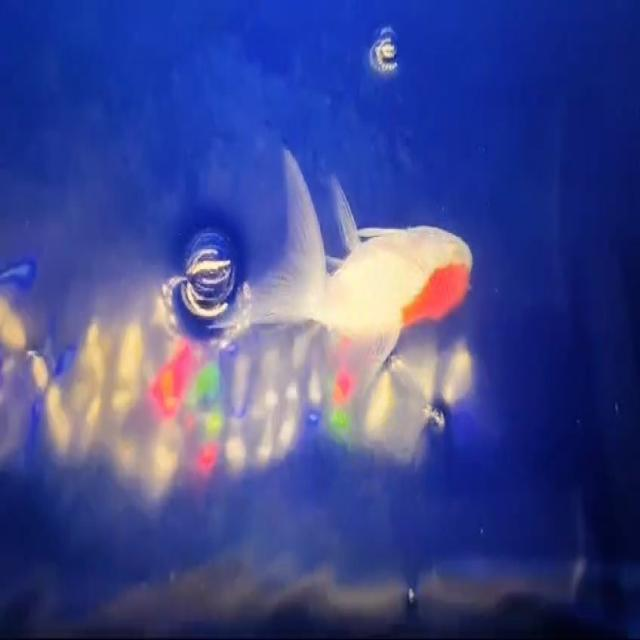fish: (238, 124, 481, 408)
